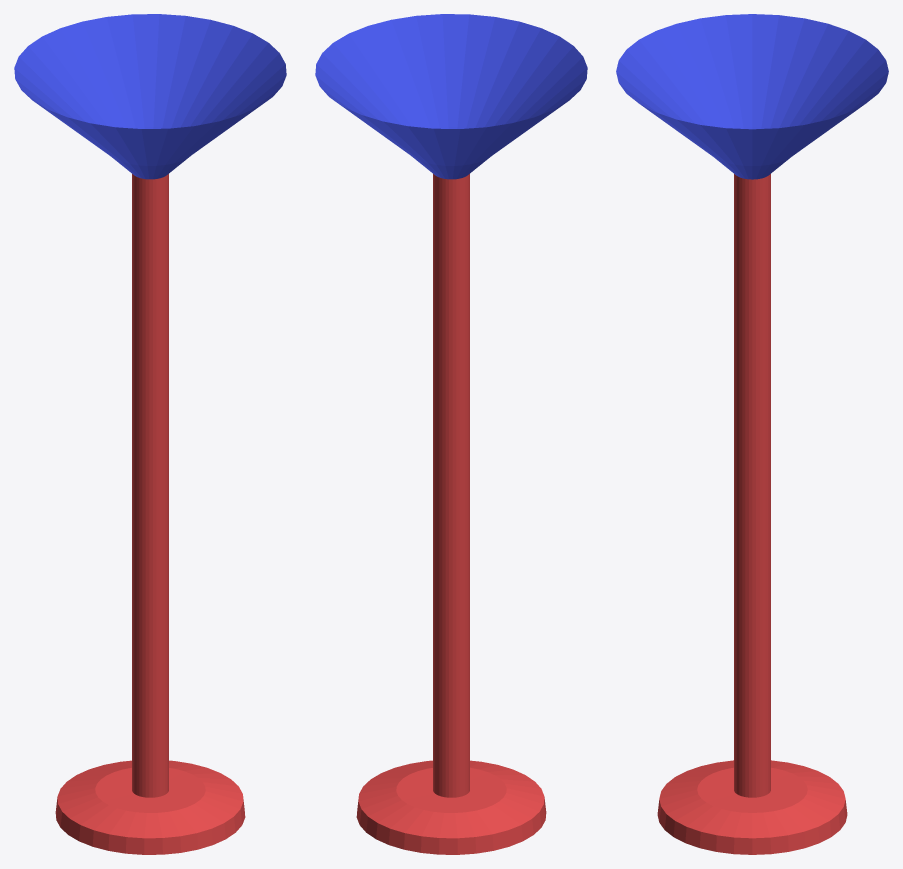
The model's file is Lamp.fbx.
3 renders of one model, left to right at view 1: azimuth 30°, elevation 25°; view 2: azimuth 150°, elevation 25°; view 3: azimuth 270°, elevation 25°, orthographic.
Visible parts, largest first — view 1: Lamp_Big.001; view 2: Lamp_Big.001; view 3: Lamp_Big.001.
Boxes of the visible parts, x1=… form: Lamp_Big.001: x1=14, y1=14, x2=286, y2=854; Lamp_Big.001: x1=315, y1=14, x2=587, y2=854; Lamp_Big.001: x1=616, y1=14, x2=888, y2=854.
Size of the model in its own units: 98.1 by 295 by 98.1.
